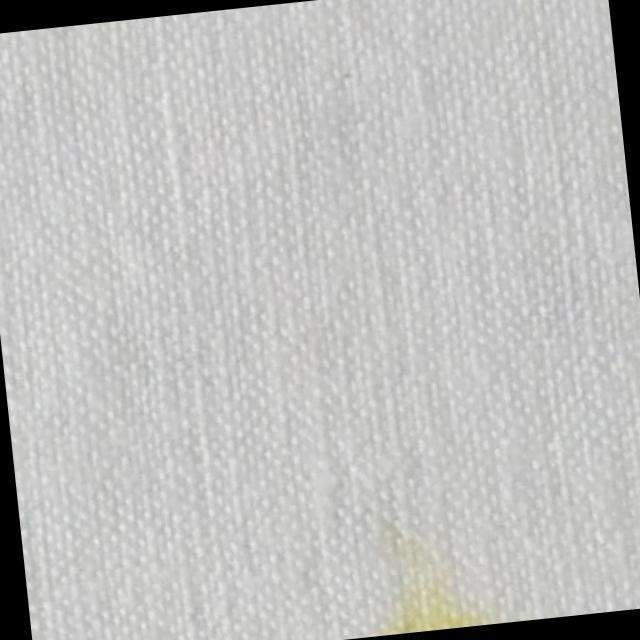Stain: (372, 508, 493, 635)
